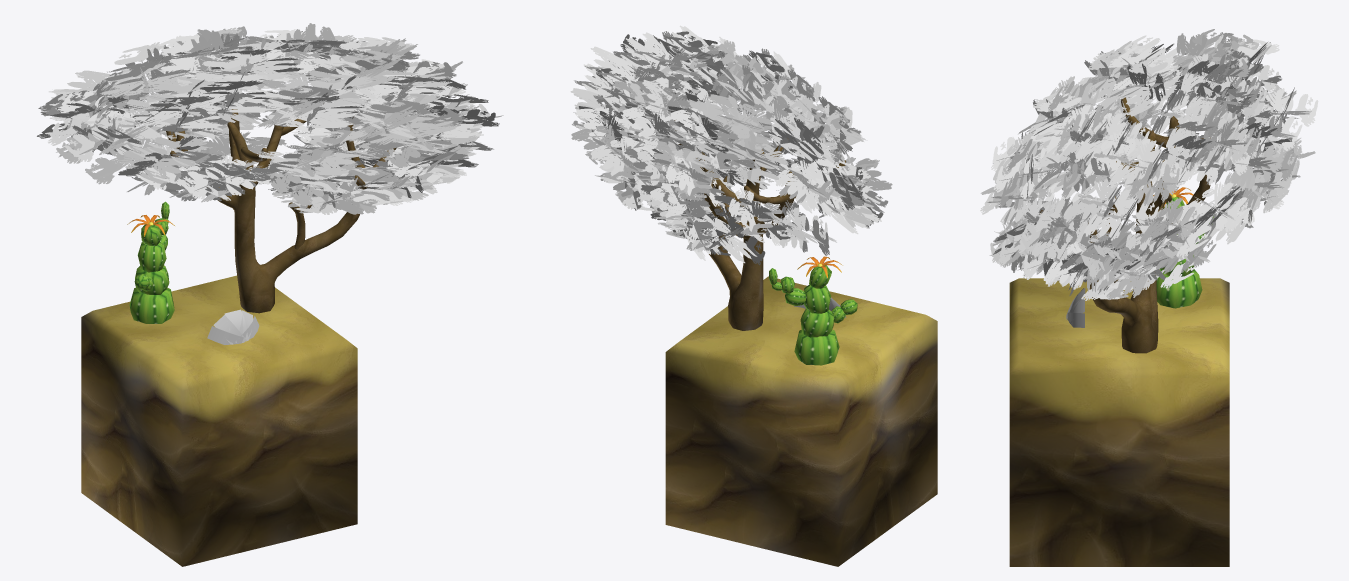
File: BiomeDesert.fbx
The picture shows the model from 3 angles, left to right: view 1: azimuth 30°, elevation 25°; view 2: azimuth 150°, elevation 25°; view 3: azimuth 270°, elevation 25°; orthographic projection. The views are drawn at different scales.
Parts seen in each view (by area): view 1: Acacia, DesertFloor, Cactus, FoliageDesert; view 2: DesertFloor, Acacia, Cactus; view 3: Acacia, DesertFloor, Cactus, FoliageDesert.
Part boxes in pixels (<box>): Acacia: <box>37,23,503,313</box>; DesertFloor: <box>81,275,357,566</box>; Cactus: <box>127,201,174,323</box>; FoliageDesert: <box>207,309,259,344</box>; DesertFloor: <box>665,276,937,566</box>; Acacia: <box>570,25,892,330</box>; Cactus: <box>768,256,857,365</box>; Acacia: <box>980,29,1318,353</box>; DesertFloor: <box>1009,278,1229,566</box>; Cactus: <box>1153,187,1213,308</box>; FoliageDesert: <box>1066,288,1085,327</box>.
Bounding box in the file's own units: 234 × 248 × 167.
